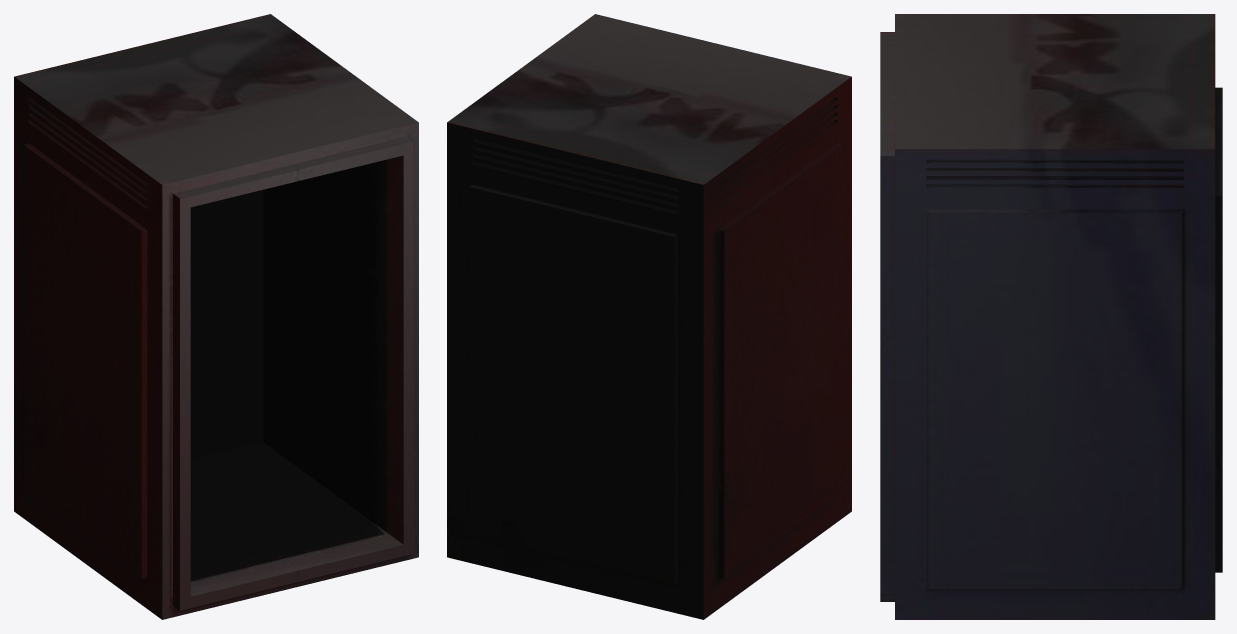
Rendered from server_box.glb.
3 views of the same model, side by side, from view 1: azimuth 30°, elevation 25°; view 2: azimuth 150°, elevation 25°; view 3: azimuth 270°, elevation 25° (orthographic). The views are drawn at different scales.
Visible parts, largest first — view 1: server_box; view 2: server_box; view 3: server_box.
Boxes of the visible parts, bbox=[...] form: server_box: bbox=[14, 14, 418, 619]; server_box: bbox=[447, 14, 851, 619]; server_box: bbox=[880, 14, 1222, 619].
Size of the model in its own units: 4.6 by 7.13 by 4.7.
1 material, 1 textured.
